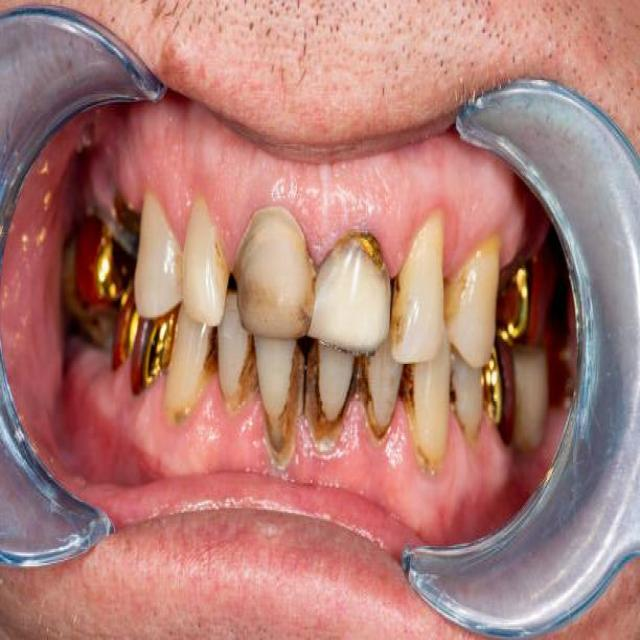caries: (346, 229, 398, 281), (445, 368, 468, 423)
